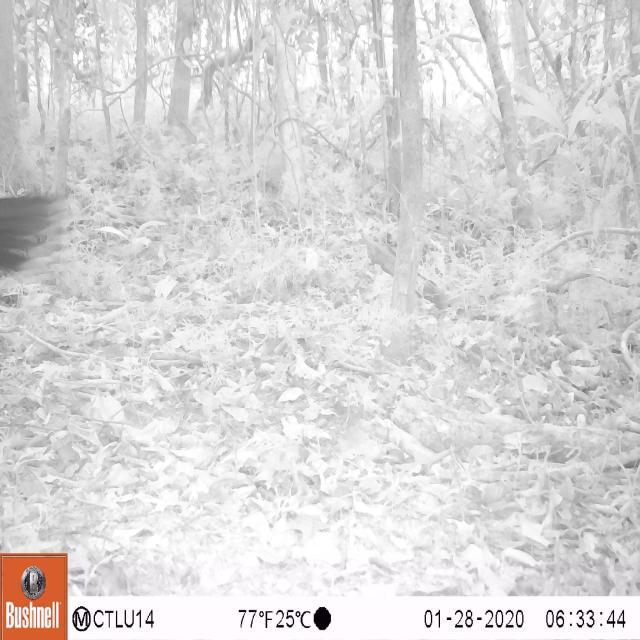Salvins Curassow: (0, 179, 75, 306)
